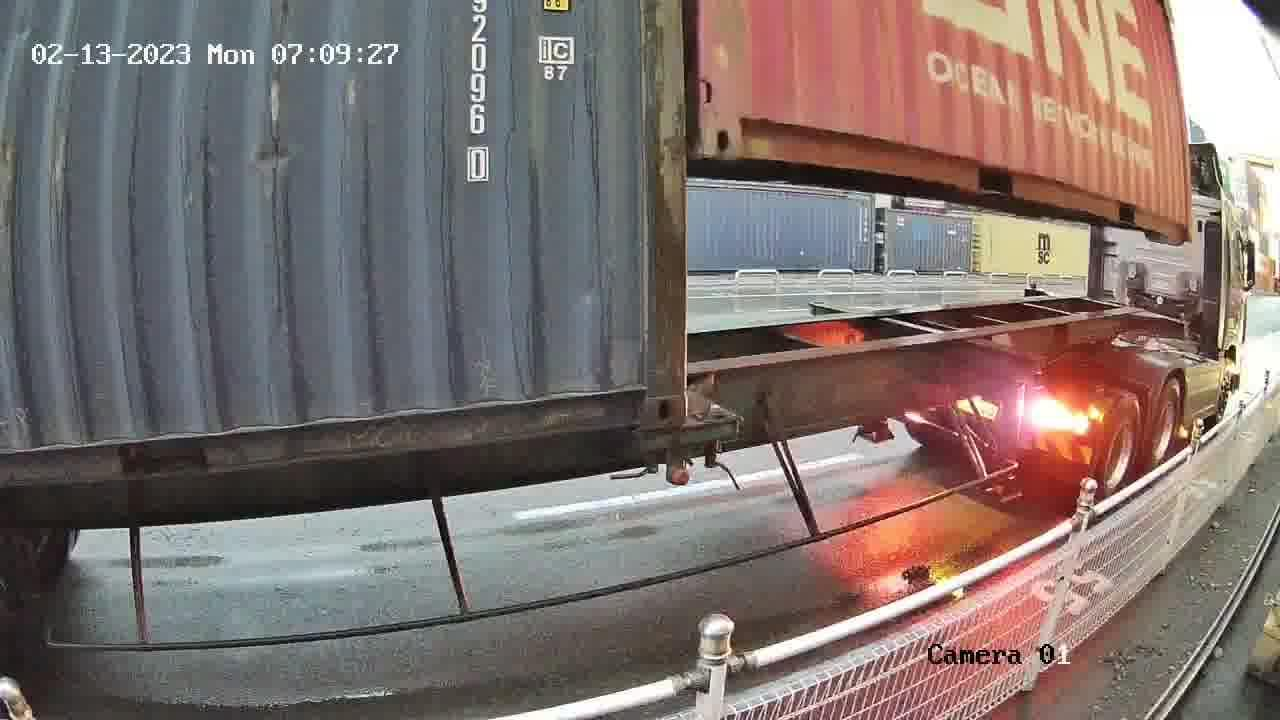Cone: (693, 409, 730, 472), (632, 430, 662, 479)
Hole_L: (702, 96, 773, 162)
Hole_R: (608, 353, 687, 428)
Tire: (1092, 397, 1142, 508), (1149, 381, 1180, 474)
